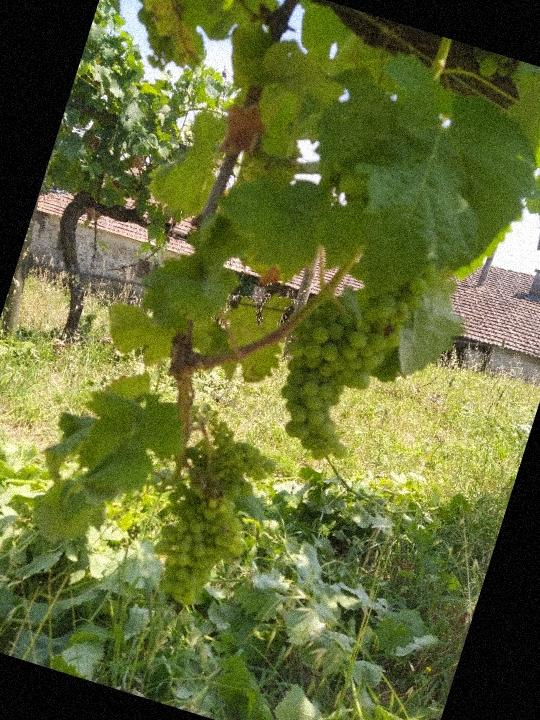grape: (257, 263, 419, 475), (133, 469, 265, 622)
